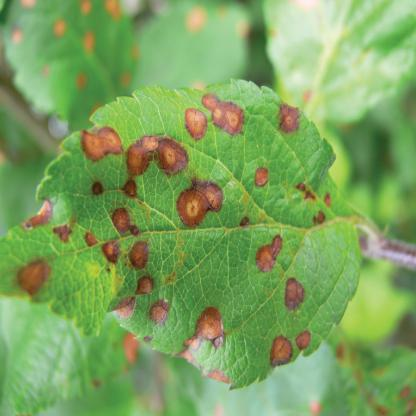apple rust leaf: (0, 75, 380, 394)
